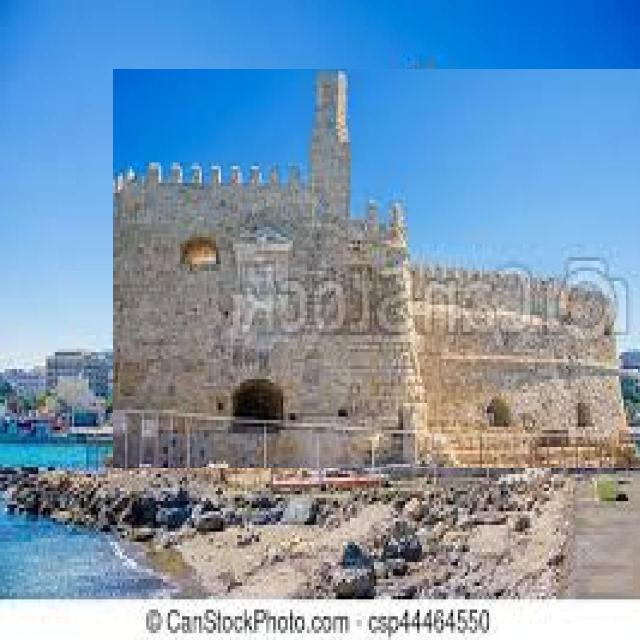Kules: (114, 70, 640, 469)
